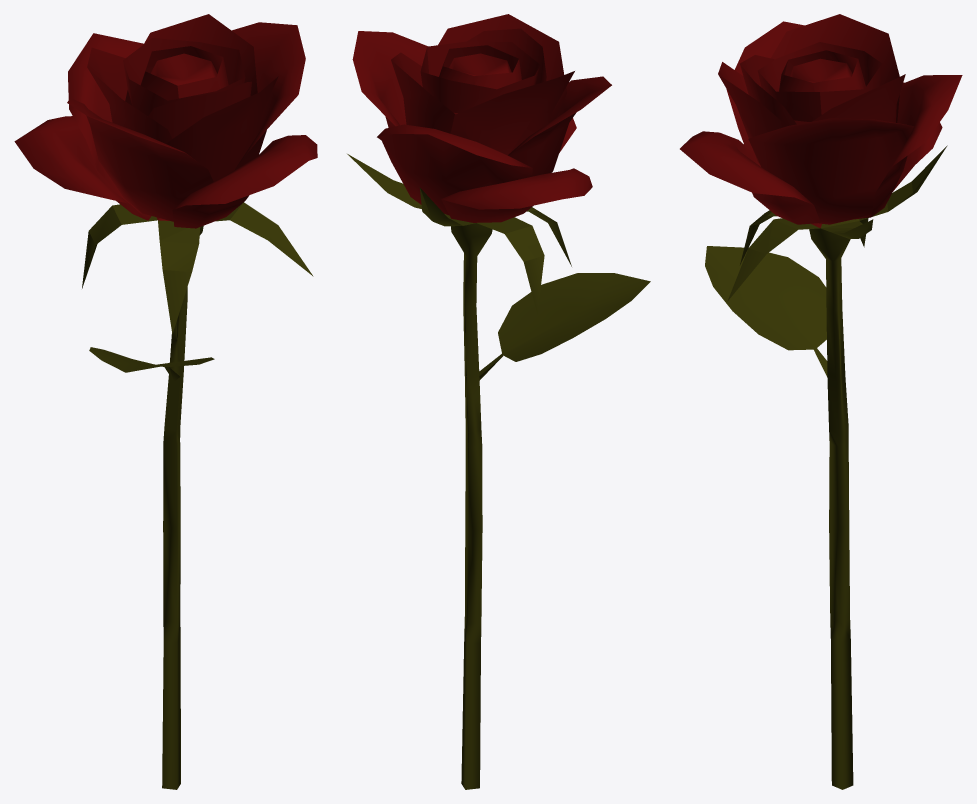
File: Rose.FBX
3 renders of one model, left to right at view 1: azimuth 30°, elevation 25°; view 2: azimuth 150°, elevation 25°; view 3: azimuth 270°, elevation 25°, orthographic.
Visible parts, largest first — view 1: Rose001; view 2: Rose001; view 3: Rose001.
Part boxes in pixels (x1=…): Rose001: x1=14, y1=14, x2=317, y2=789; Rose001: x1=347, y1=14, x2=650, y2=789; Rose001: x1=680, y1=14, x2=962, y2=789.
Size of the model in its own units: 7.59 by 21.75 by 7.64.
